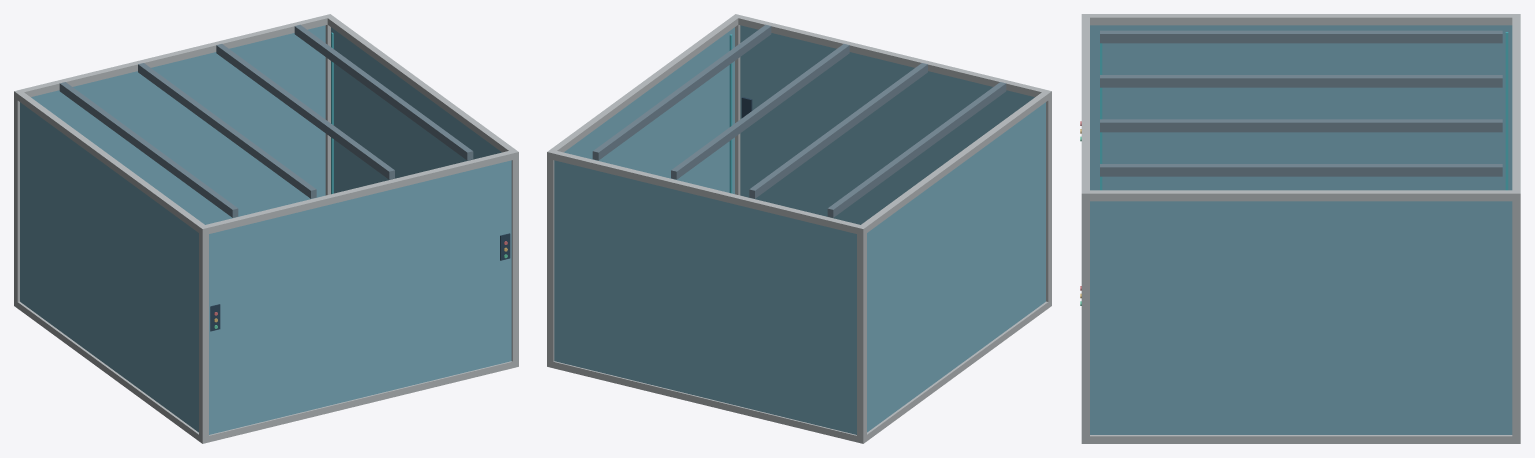
File: 01_L74_TransparentLithographySafetyEnclosure.glb
3 renders of one model, left to right at view 1: azimuth 30°, elevation 25°; view 2: azimuth 150°, elevation 25°; view 3: azimuth 270°, elevation 25°, orthographic. The views are drawn at different scales.
Visible parts, largest first — view 1: TransparentLithographySafetyEnclosure_Node_0013, TransparentLithographySafetyEnclosure_Node_0014, TransparentLithographySafetyEnclosure_Node_0012, TransparentLithographySafetyEnclosure_Node_0015, TransparentLithographySafetyEnclosure_Node_0009, TransparentLithographySafetyEnclosure_Node_0008, TransparentLithographySafetyEnclosure_Node_0024, TransparentLithographySafetyEnclosure_Node_0027, TransparentLithographySafetyEnclosure_Node_0025, TransparentLithographySafetyEnclosure_Node_0026, TransparentLithographySafetyEnclosure_Node_0005, TransparentLithographySafetyEnclosure_Node_0010 (+6 smaller); view 2: TransparentLithographySafetyEnclosure_Node_0012, TransparentLithographySafetyEnclosure_Node_0014, TransparentLithographySafetyEnclosure_Node_0013, TransparentLithographySafetyEnclosure_Node_0015, TransparentLithographySafetyEnclosure_Node_0008, TransparentLithographySafetyEnclosure_Node_0009, TransparentLithographySafetyEnclosure_Node_0024, TransparentLithographySafetyEnclosure_Node_0027, TransparentLithographySafetyEnclosure_Node_0025, TransparentLithographySafetyEnclosure_Node_0026, TransparentLithographySafetyEnclosure_Node_0010, TransparentLithographySafetyEnclosure_Node_0004 (+7 smaller); view 3: TransparentLithographySafetyEnclosure_Node_0015, TransparentLithographySafetyEnclosure_Node_0014, TransparentLithographySafetyEnclosure_Node_0024, TransparentLithographySafetyEnclosure_Node_0026, TransparentLithographySafetyEnclosure_Node_0025, TransparentLithographySafetyEnclosure_Node_0027, TransparentLithographySafetyEnclosure_Node_0011, TransparentLithographySafetyEnclosure_Node_0010, TransparentLithographySafetyEnclosure_Node_0007, TransparentLithographySafetyEnclosure_Node_0002, TransparentLithographySafetyEnclosure_Node_0003, TransparentLithographySafetyEnclosure_Node_0009 (+2 smaller).
Part boxes in pixels (x1,y1,x2,y2): TransparentLithographySafetyEnclosure_Node_0013: (209, 160, 511, 434); TransparentLithographySafetyEnclosure_Node_0014: (20, 102, 198, 432); TransparentLithographySafetyEnclosure_Node_0012: (31, 25, 325, 224); TransparentLithographySafetyEnclosure_Node_0015: (331, 27, 501, 193); TransparentLithographySafetyEnclosure_Node_0009: (199, 151, 518, 235); TransparentLithographySafetyEnclosure_Node_0008: (16, 15, 333, 99); TransparentLithographySafetyEnclosure_Node_0024: (59, 82, 238, 217); TransparentLithographySafetyEnclosure_Node_0027: (294, 24, 473, 160); TransparentLithographySafetyEnclosure_Node_0025: (138, 63, 316, 198); TransparentLithographySafetyEnclosure_Node_0026: (216, 44, 394, 179); TransparentLithographySafetyEnclosure_Node_0005: (199, 360, 518, 443); TransparentLithographySafetyEnclosure_Node_0010: (15, 92, 208, 234); TransparentLithographySafetyEnclosure_Node_0012: (554, 160, 856, 434); TransparentLithographySafetyEnclosure_Node_0014: (867, 102, 1045, 432); TransparentLithographySafetyEnclosure_Node_0013: (740, 25, 1034, 224); TransparentLithographySafetyEnclosure_Node_0015: (564, 27, 734, 194); TransparentLithographySafetyEnclosure_Node_0008: (547, 149, 866, 234); TransparentLithographySafetyEnclosure_Node_0009: (733, 14, 1044, 96); TransparentLithographySafetyEnclosure_Node_0024: (827, 82, 1006, 217); TransparentLithographySafetyEnclosure_Node_0027: (592, 24, 771, 160); TransparentLithographySafetyEnclosure_Node_0025: (749, 63, 927, 198); TransparentLithographySafetyEnclosure_Node_0026: (671, 44, 849, 179); TransparentLithographySafetyEnclosure_Node_0010: (857, 90, 1051, 234); TransparentLithographySafetyEnclosure_Node_0004: (547, 361, 866, 443); TransparentLithographySafetyEnclosure_Node_0015: (1090, 201, 1512, 434); TransparentLithographySafetyEnclosure_Node_0014: (1090, 25, 1512, 190); TransparentLithographySafetyEnclosure_Node_0024: (1100, 30, 1502, 43); TransparentLithographySafetyEnclosure_Node_0026: (1100, 119, 1502, 132); TransparentLithographySafetyEnclosure_Node_0025: (1100, 75, 1502, 87); TransparentLithographySafetyEnclosure_Node_0027: (1100, 164, 1502, 176); TransparentLithographySafetyEnclosure_Node_0011: (1081, 190, 1520, 201); TransparentLithographySafetyEnclosure_Node_0010: (1085, 14, 1519, 25); TransparentLithographySafetyEnclosure_Node_0007: (1084, 435, 1519, 443); TransparentLithographySafetyEnclosure_Node_0002: (1512, 190, 1520, 443); TransparentLithographySafetyEnclosure_Node_0003: (1081, 190, 1089, 443); TransparentLithographySafetyEnclosure_Node_0009: (1081, 14, 1089, 200).
Size of the model in its own units: 6.55 by 4.33 by 6.78.
